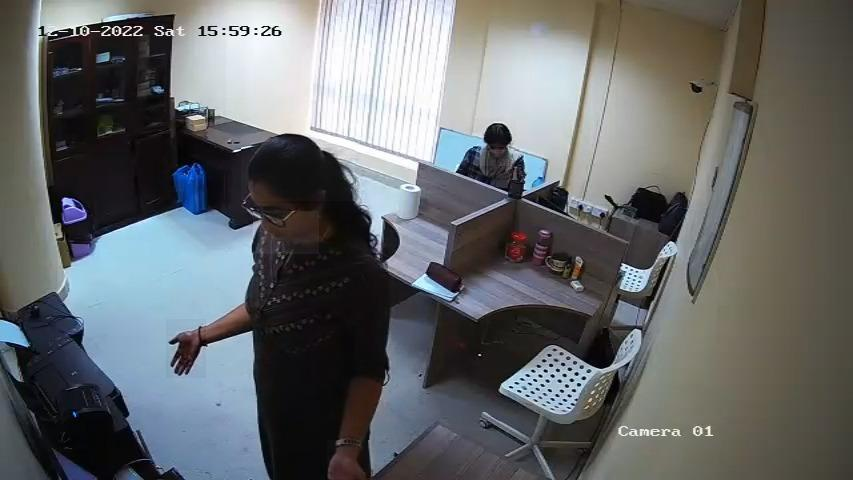no_apron: (166, 320, 206, 378), (327, 440, 372, 480)
no_gloves: (242, 138, 356, 202), (473, 119, 516, 151)
no_hairnet: (253, 212, 319, 254), (480, 148, 514, 166)
